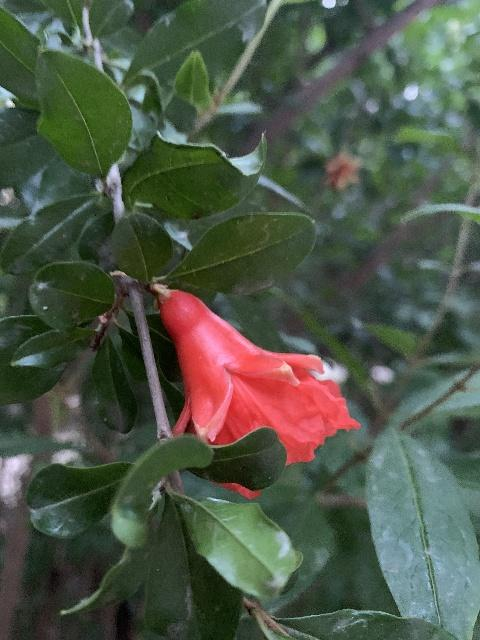flower: (161, 288, 356, 499)
